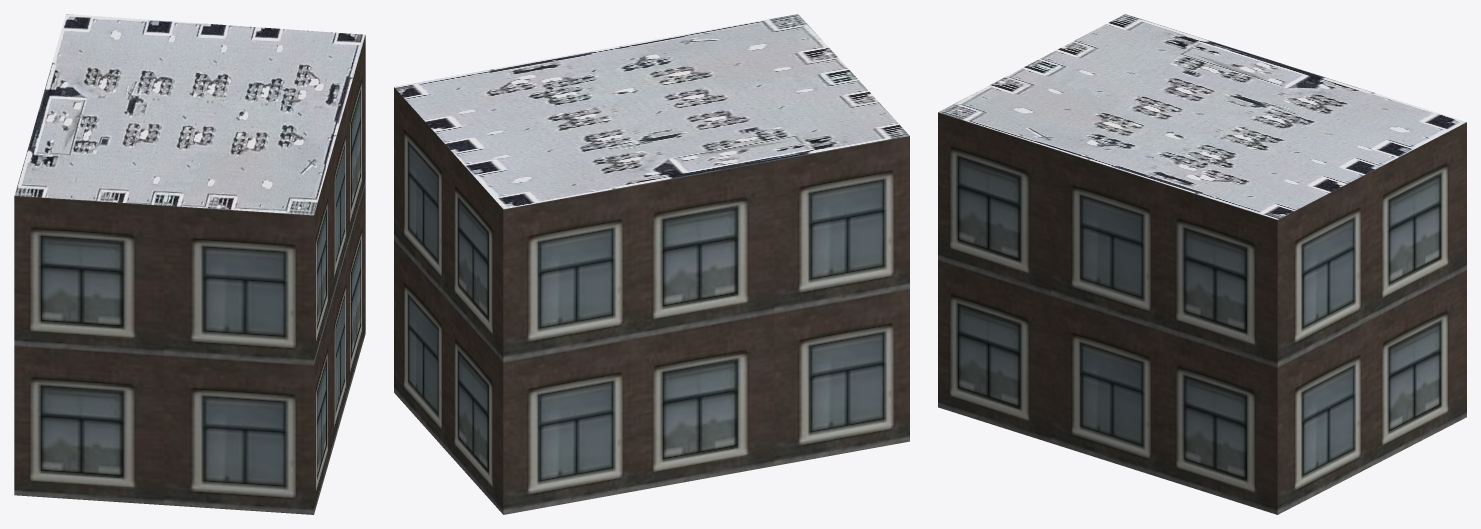
Rendered from ResTex__4627.fbx.
3 views of the same model, side by side, from view 1: azimuth 30°, elevation 25°; view 2: azimuth 150°, elevation 25°; view 3: azimuth 270°, elevation 25° (orthographic). The views are drawn at different scales.
Visible parts, largest first — view 1: CityEngineMaterial_16_m, CityEngineMaterial_15_m; view 2: CityEngineMaterial_16_m, CityEngineMaterial_15_m; view 3: CityEngineMaterial_16_m, CityEngineMaterial_15_m.
Boxes of the visible parts, x1,y1,x2,y2 form: CityEngineMaterial_16_m: (14, 35, 365, 514); CityEngineMaterial_15_m: (14, 14, 365, 215); CityEngineMaterial_16_m: (394, 87, 909, 514); CityEngineMaterial_15_m: (394, 14, 909, 209); CityEngineMaterial_16_m: (938, 112, 1466, 514); CityEngineMaterial_15_m: (938, 14, 1466, 219).
Bounding box in the file's own units: 8.98 × 6 × 9.75.
2 materials, 2 textured.
